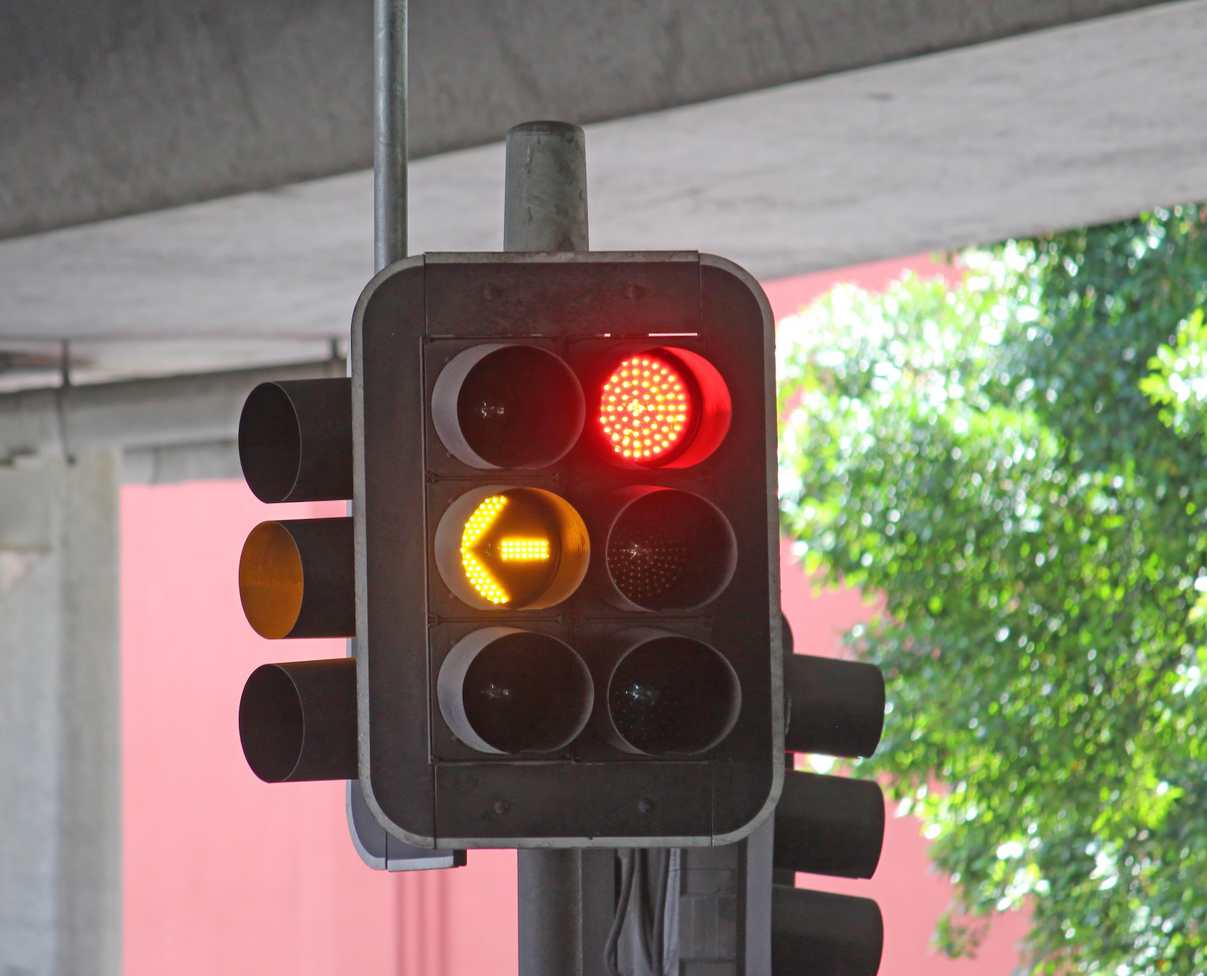TraficLight: (369, 246, 798, 855)
